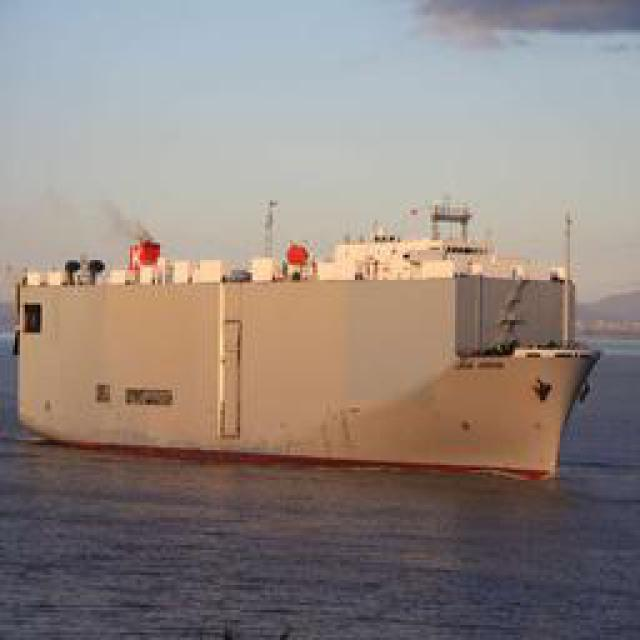Ship: (6, 241, 594, 471)
